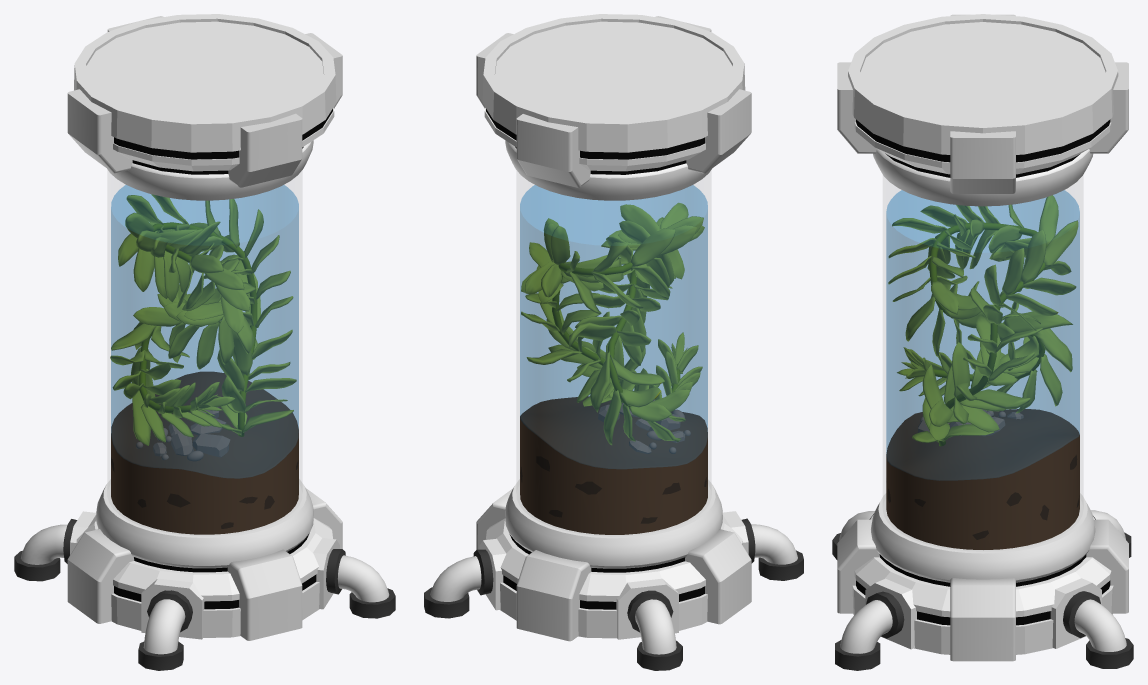
The model's file is Pod.fbx.
3 renders of one model, left to right at view 1: azimuth 30°, elevation 25°; view 2: azimuth 150°, elevation 25°; view 3: azimuth 270°, elevation 25°, orthographic. The views are drawn at different scales.
Visible parts, largest first — view 1: Pod, Aquatic-Mesocosm-Wasser, Aquatic-Mesocosm-Elodea, Aquatic-Mesocosm-Erde, Pod-Glas; view 2: Pod, Aquatic-Mesocosm-Wasser, Aquatic-Mesocosm-Elodea, Aquatic-Mesocosm-Erde, Pod-Glas; view 3: Pod, Aquatic-Mesocosm-Wasser, Aquatic-Mesocosm-Elodea, Aquatic-Mesocosm-Erde, Pod-Glas.
Boxes of the visible parts, left/top/right/bottom form: Pod: left=14, top=14, right=395, bottom=670; Aquatic-Mesocosm-Wasser: left=111, top=185, right=298, bottom=477; Aquatic-Mesocosm-Elodea: left=110, top=194, right=296, bottom=445; Aquatic-Mesocosm-Erde: left=111, top=371, right=298, bottom=534; Pod-Glas: left=108, top=171, right=301, bottom=488; Pod: left=424, top=14, right=803, bottom=670; Aquatic-Mesocosm-Wasser: left=520, top=185, right=707, bottom=468; Aquatic-Mesocosm-Elodea: left=521, top=202, right=704, bottom=445; Aquatic-Mesocosm-Erde: left=520, top=396, right=707, bottom=534; Pod-Glas: left=517, top=172, right=710, bottom=488; Pod: left=832, top=14, right=1133, bottom=670; Aquatic-Mesocosm-Wasser: left=886, top=190, right=1079, bottom=480; Aquatic-Mesocosm-Elodea: left=888, top=195, right=1078, bottom=446; Aquatic-Mesocosm-Erde: left=886, top=409, right=1079, bottom=549; Pod-Glas: left=883, top=176, right=1082, bottom=503.
Size of what is drawn, in the model's own units: 1.4 by 1.4 by 2.75.
